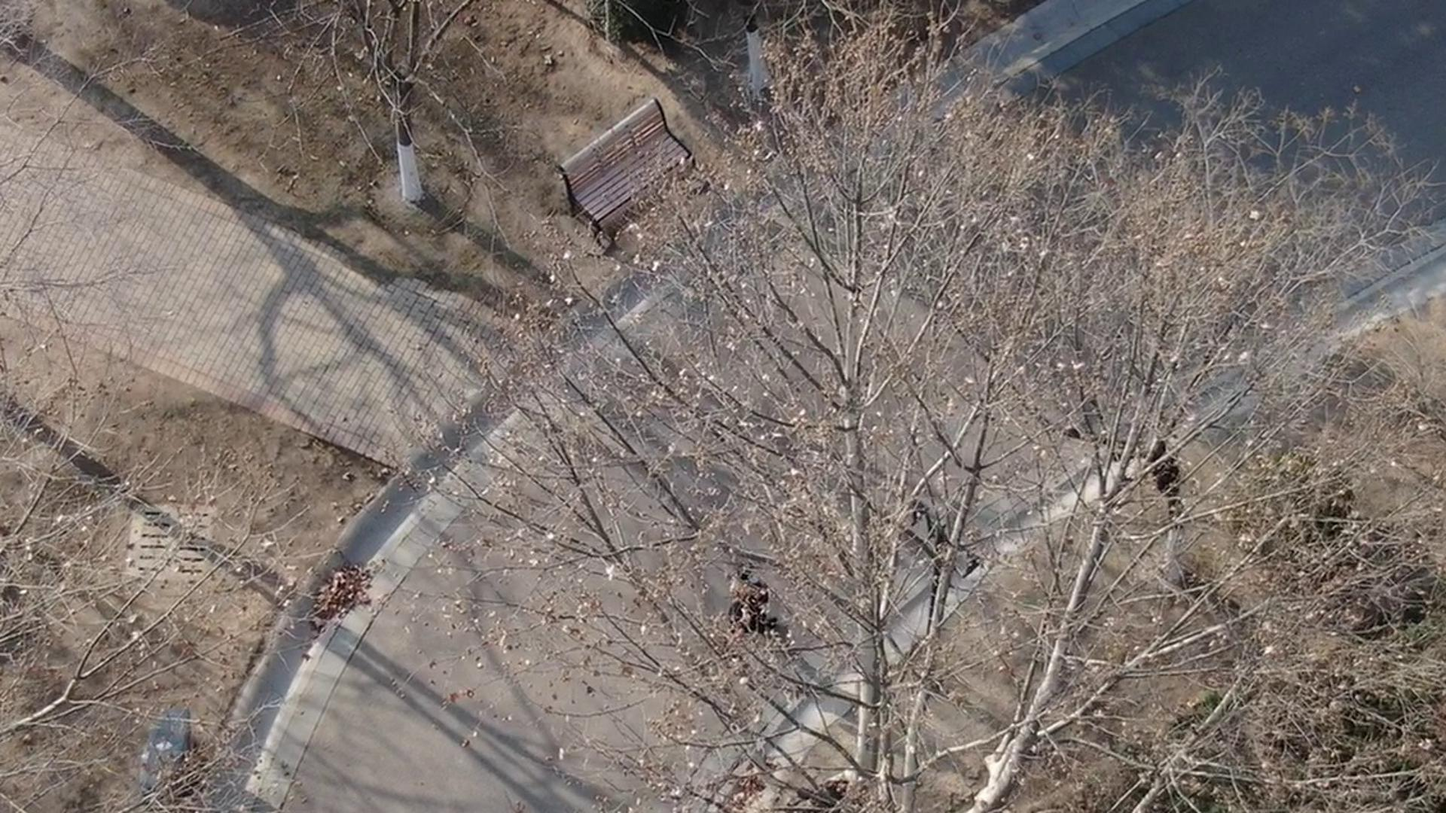human: (743, 544, 790, 642)
